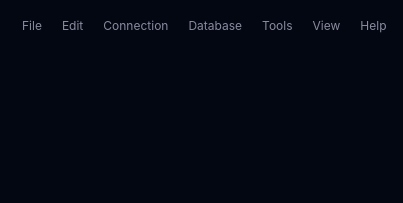
Test case: MenuBar › closes dropdown after item click
Click the menu item "File": coordinates (32, 26) [12,14,52,38]
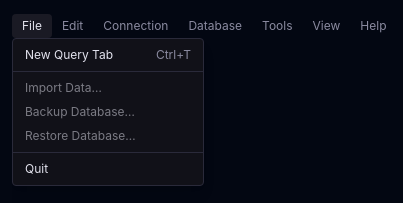
Click the text "New Query Tab": coordinates (69, 55) [25,47,113,63]
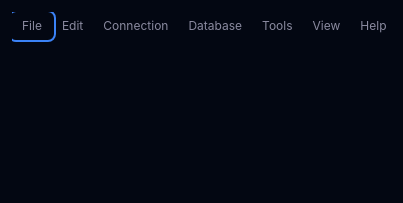
Expected: the menu item "New Query Tab" is gone
